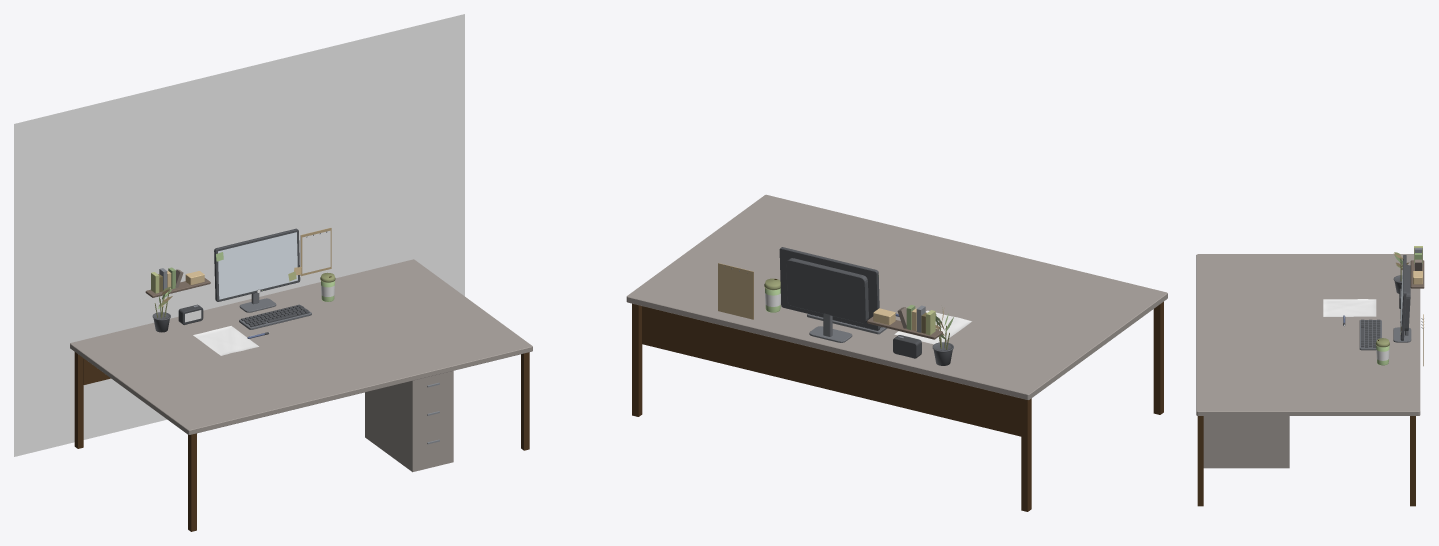
The model's file is referencia-escenario-2-adulthood.glb.
The picture shows the model from 3 angles, left to right: view 1: azimuth 30°, elevation 25°; view 2: azimuth 150°, elevation 25°; view 3: azimuth 270°, elevation 25°; orthographic projection. The views are drawn at different scales.
Visible parts, largest first — view 1: Pared, desk-top, Escritorio (provisional) parte 6, monitor-screen, checklist-paper-sheet, Calendario de pared parte 6, Escritorio (provisional) parte 1, monitor-bezel, Escritorio (provisional) parte 4, Escritorio (provisional) parte 2, teclas; view 2: desk-top, Escritorio (provisional) parte 5, Monitor parte 4, monitor-bezel, calendar-board, Escritorio (provisional) parte 1, Escritorio (provisional) parte 2, Escritorio (provisional) parte 3, checklist-paper-sheet; view 3: desk-top, Escritorio (provisional) parte 6, checklist-paper-sheet, Escritorio (provisional) parte 4, Escritorio (provisional) parte 3, teclas, monitor-bezel, Monitor parte 4.
Part boxes in pixels (x1,y1,x2,y2): Pared: (14, 14, 464, 456); desk-top: (70, 259, 532, 434); Escritorio (provisional) parte 6: (365, 371, 453, 472); monitor-screen: (218, 232, 297, 299); checklist-paper-sheet: (193, 326, 258, 355); Calendario de pared parte 6: (302, 230, 330, 273); Escritorio (provisional) parte 1: (74, 352, 83, 448); monitor-bezel: (214, 228, 300, 301); Escritorio (provisional) parte 4: (521, 352, 529, 450); Escritorio (provisional) parte 2: (188, 433, 196, 531); teclas: (241, 304, 309, 327); desk-top: (626, 194, 1167, 399); Escritorio (provisional) parte 5: (642, 306, 1021, 436); Monitor parte 4: (786, 258, 868, 323); monitor-bezel: (779, 247, 880, 330); calendar-board: (718, 263, 753, 319); Escritorio (provisional) parte 1: (1021, 398, 1031, 511); Escritorio (provisional) parte 2: (1153, 301, 1163, 414); Escritorio (provisional) parte 3: (632, 303, 642, 416); checklist-paper-sheet: (894, 310, 971, 344); desk-top: (1196, 254, 1420, 415); Escritorio (provisional) parte 6: (1203, 416, 1289, 468); checklist-paper-sheet: (1323, 299, 1376, 316); Escritorio (provisional) parte 4: (1197, 416, 1203, 506); Escritorio (provisional) parte 3: (1410, 416, 1415, 506); teclas: (1361, 319, 1380, 347); monitor-bezel: (1400, 255, 1406, 340); Monitor parte 4: (1404, 265, 1410, 330).
Size of the model in its own units: 34 by 24 by 15.9.
